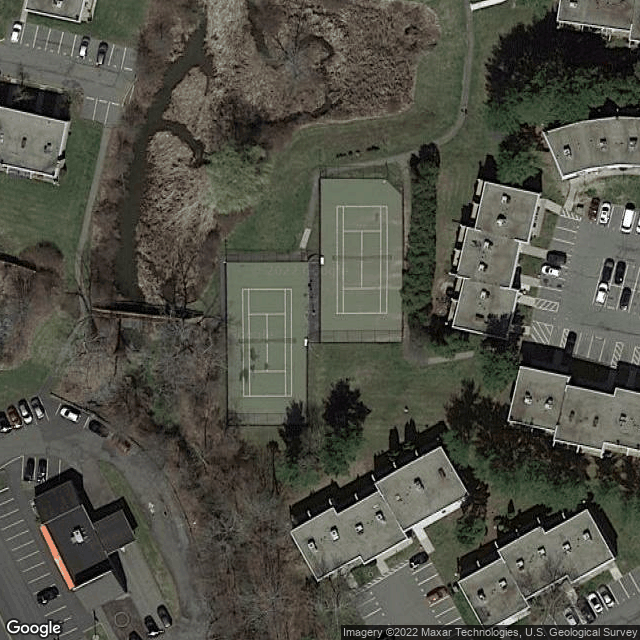Court: (239, 286, 295, 397), (334, 202, 389, 314)
